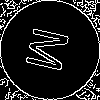M: (25, 25, 79, 76)
